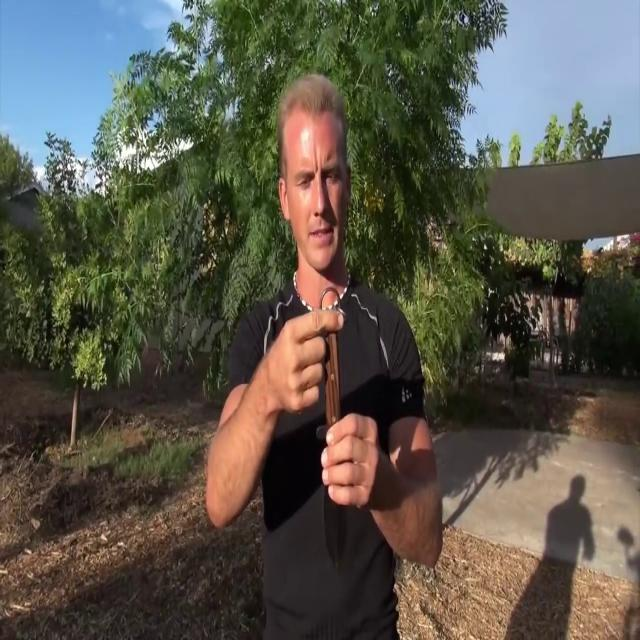knife: (311, 276, 352, 574)
